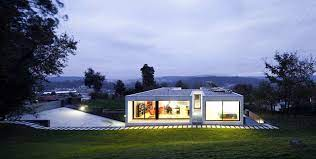private_hause: (123, 84, 246, 127)
